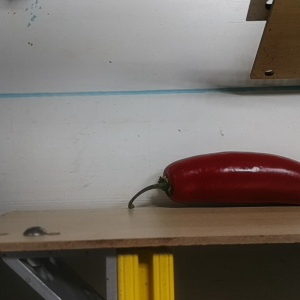Cut Point: (154, 161, 185, 203)
